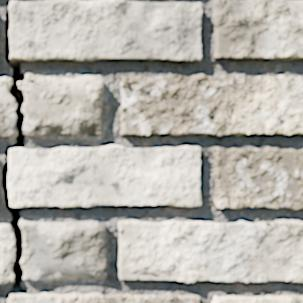brick: (8, 146, 200, 206), (10, 0, 201, 60), (118, 220, 302, 282), (120, 75, 302, 135), (213, 147, 302, 208), (213, 0, 302, 59), (7, 293, 198, 302), (213, 295, 302, 302), (276, 220, 302, 229)
broken_brick: (19, 73, 105, 136), (21, 220, 106, 281), (0, 76, 15, 138), (0, 223, 13, 284)
crack: (0, 2, 31, 300), (260, 221, 302, 234), (46, 130, 59, 133), (15, 0, 25, 2)
